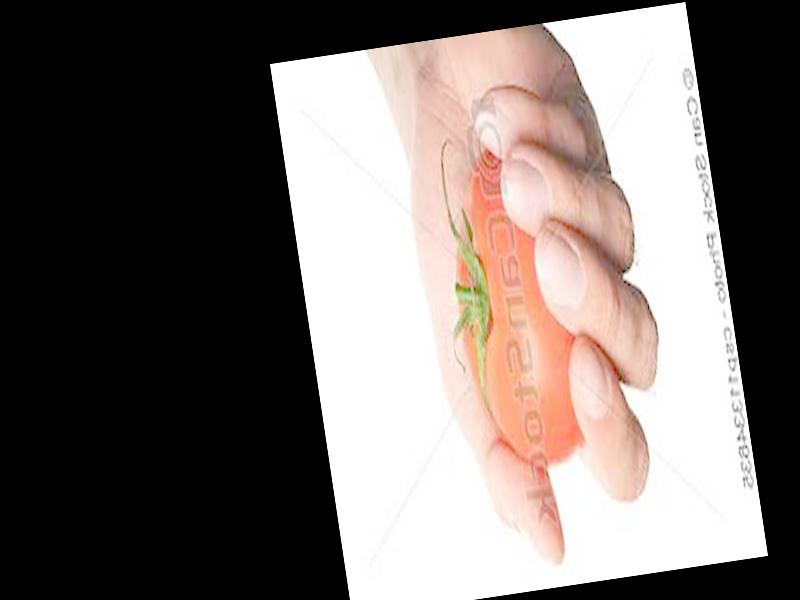Tomato: (438, 143, 589, 475)
